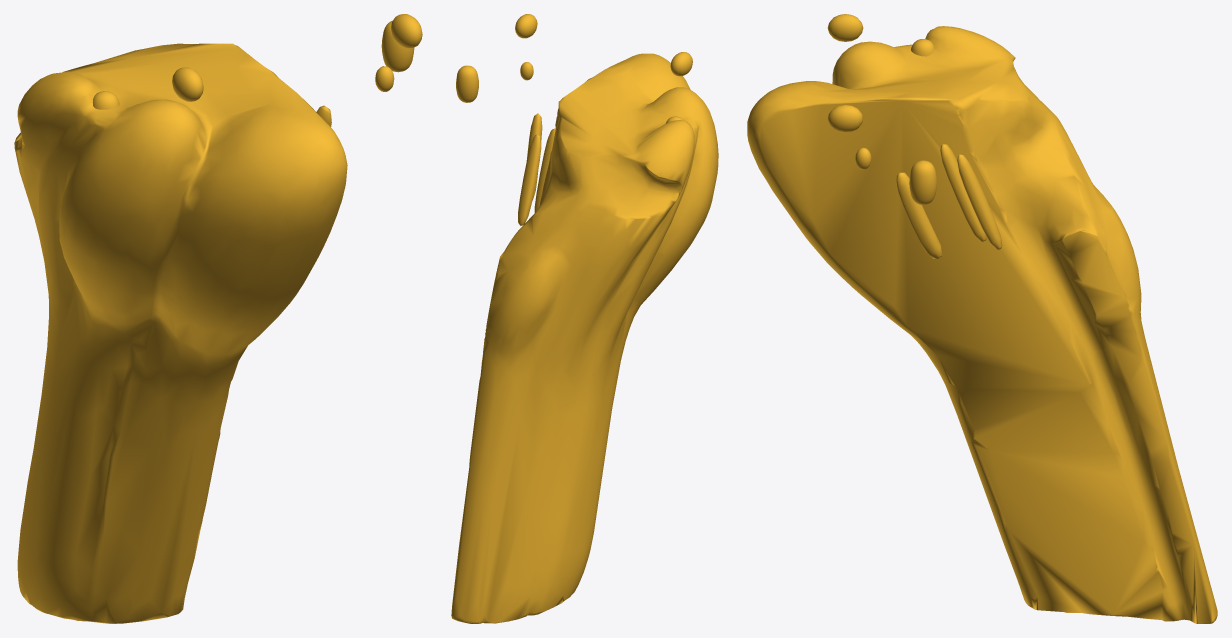
File: nervoso-medulla-oblongata-r.glb
3 renders of one model, left to right at view 1: azimuth 30°, elevation 25°; view 2: azimuth 150°, elevation 25°; view 3: azimuth 270°, elevation 25°, orthographic. The views are drawn at different scales.
Visible parts, largest first — view 1: Medulla oblongata.r, Posterior cochlear nucleus.l, Anterior cochlear nucleus.l, Anterior cochlear nucleus.r; view 2: Medulla oblongata.r, Posterior nucleus of vagus nerve.l, Posterior cochlear nucleus.l, Nucleus of hypoglossal nerve.l, Anterior cochlear nucleus.r, Anterior cochlear nucleus.l; view 3: Medulla oblongata.r, Posterior nucleus of vagus nerve.l, Nucleus ambiguus.l, Nucleus of hypoglossal nerve.l, Posterior cochlear nucleus.l, Anterior cochlear nucleus.r, Anterior cochlear nucleus.l.
Boxes of the visible parts, left/top/right/bottom form: Medulla oblongata.r: left=14, top=43, right=347, bottom=623; Posterior cochlear nucleus.l: left=381, top=20, right=414, bottom=72; Anterior cochlear nucleus.l: left=391, top=14, right=422, bottom=48; Anterior cochlear nucleus.r: left=172, top=67, right=203, bottom=101; Medulla oblongata.r: left=451, top=53, right=718, bottom=623; Posterior nucleus of vagus nerve.l: left=518, top=134, right=541, bottom=226; Posterior cochlear nucleus.l: left=456, top=65, right=478, bottom=102; Nucleus of hypoglossal nerve.l: left=534, top=128, right=555, bottom=212; Anterior cochlear nucleus.r: left=670, top=52, right=692, bottom=76; Anterior cochlear nucleus.l: left=515, top=14, right=537, bottom=38; Medulla oblongata.r: left=747, top=26, right=1217, bottom=623; Posterior nucleus of vagus nerve.l: left=957, top=154, right=1002, bottom=249; Nucleus ambiguus.l: left=896, top=172, right=942, bottom=258; Nucleus of hypoglossal nerve.l: left=940, top=144, right=986, bottom=241; Posterior cochlear nucleus.l: left=909, top=160, right=936, bottom=204; Anterior cochlear nucleus.r: left=827, top=14, right=863, bottom=41; Anterior cochlear nucleus.l: left=827, top=104, right=863, bottom=132.
Size of the model in its own units: 0.0238 by 0.0426 by 0.0322.
